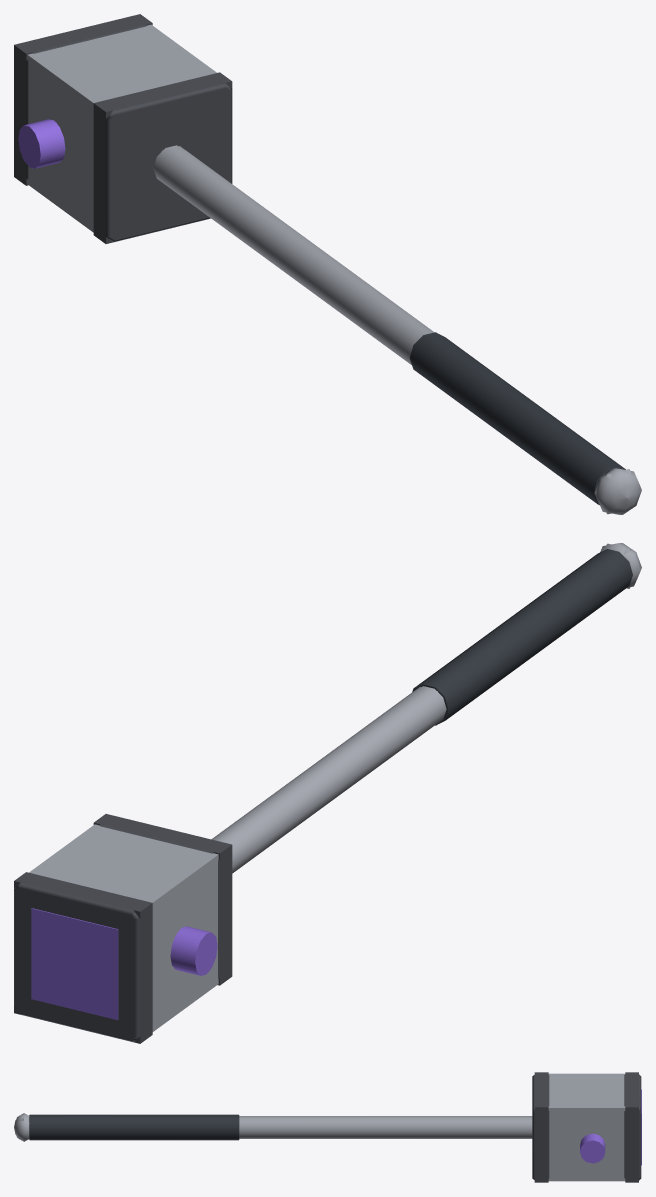
The model's file is emaul.glb.
3 renders of one model, top to bottom at view 1: azimuth 30°, elevation 25°; view 2: azimuth 150°, elevation 25°; view 3: azimuth 270°, elevation 25°, orthographic. The views are drawn at different scales.
Visible parts, largest first — view 1: L0, L1; view 2: L0, L1; view 3: L0, L1.
Part boxes in pixels (<box>): L0: <box>14,16,641,514</box>; L1: <box>14,14,640,514</box>; L0: <box>14,543,641,1041</box>; L1: <box>14,543,630,1043</box>; L0: <box>14,1074,641,1180</box>; L1: <box>16,1072,638,1182</box>.
Size of the model in its own units: 0.2 by 0.1428 by 1.08.
